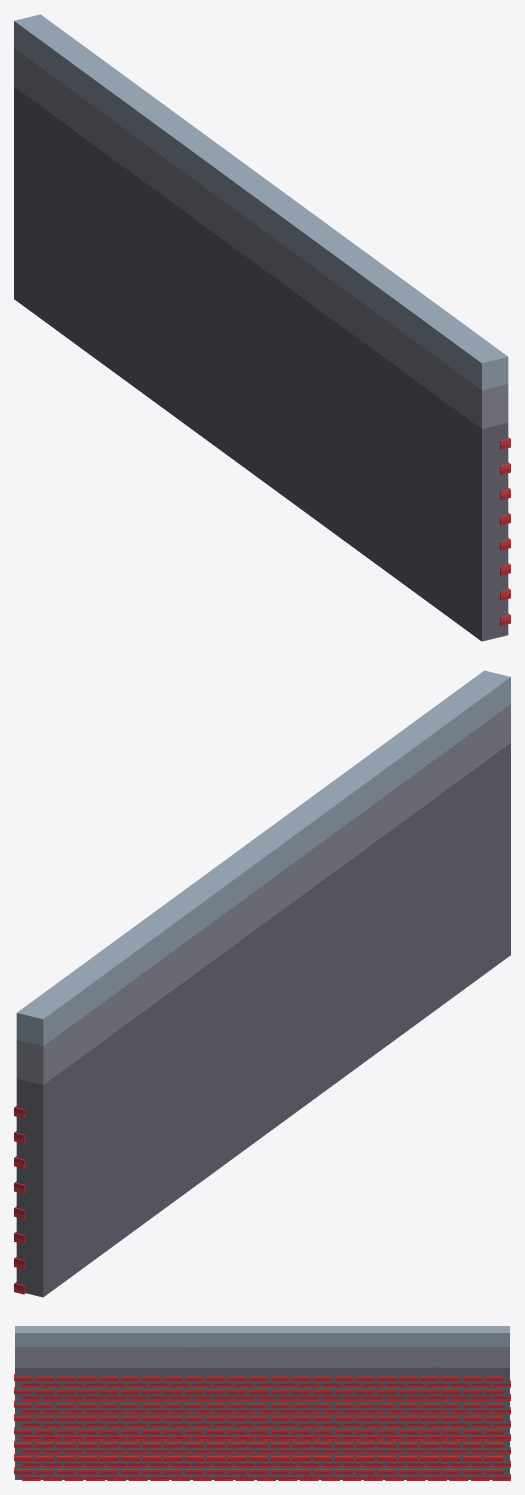
The model's file is pared.fbx.
3 renders of one model, top to bottom at view 1: azimuth 30°, elevation 25°; view 2: azimuth 150°, elevation 25°; view 3: azimuth 270°, elevation 25°, orthographic. The views are drawn at different scales.
Visible parts, largest first — view 1: pared, Cube.004; view 2: pared, Cube.004; view 3: pared, Cube.004.
Part boxes in pixels (x1,y1,x2,y2): pared: [14, 14, 508, 641]; Cube.004: [500, 437, 510, 625]; pared: [16, 670, 510, 1297]; Cube.004: [14, 1106, 25, 1294]; pared: [15, 1326, 509, 1479]; Cube.004: [14, 1374, 510, 1480].
Size of the model in its own units: 53.25 by 501 by 1529.
